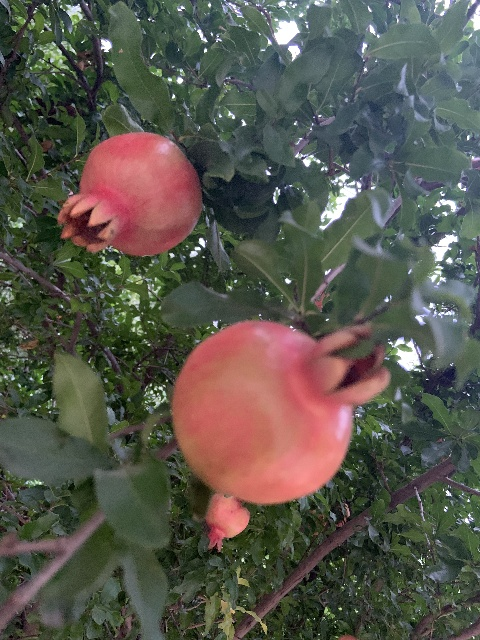ripe: (171, 317, 389, 503), (57, 132, 203, 256), (205, 492, 250, 552)
